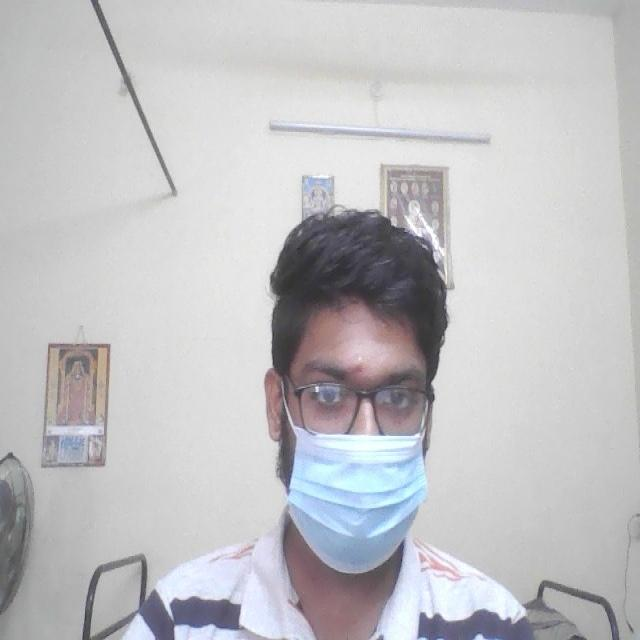Focused: (258, 298, 445, 551)
